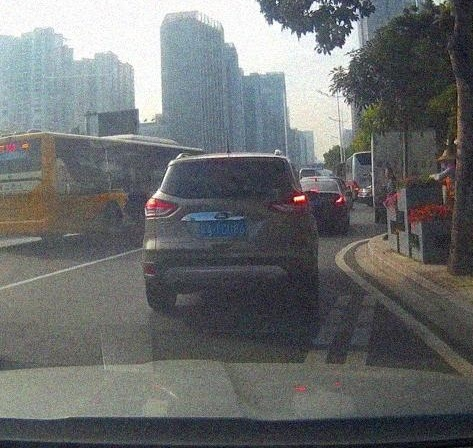L_light: (144, 197, 179, 218)
R_light: (271, 192, 311, 214)
T_light: (219, 159, 240, 162)
day-brake: (141, 151, 320, 310)
